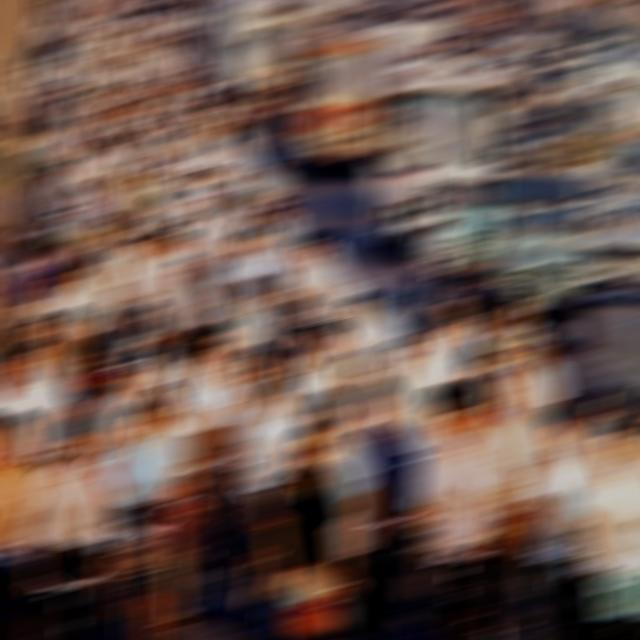With Helmet: (426, 202, 460, 232)
Without Helmet: (288, 418, 336, 473), (116, 397, 160, 444)
